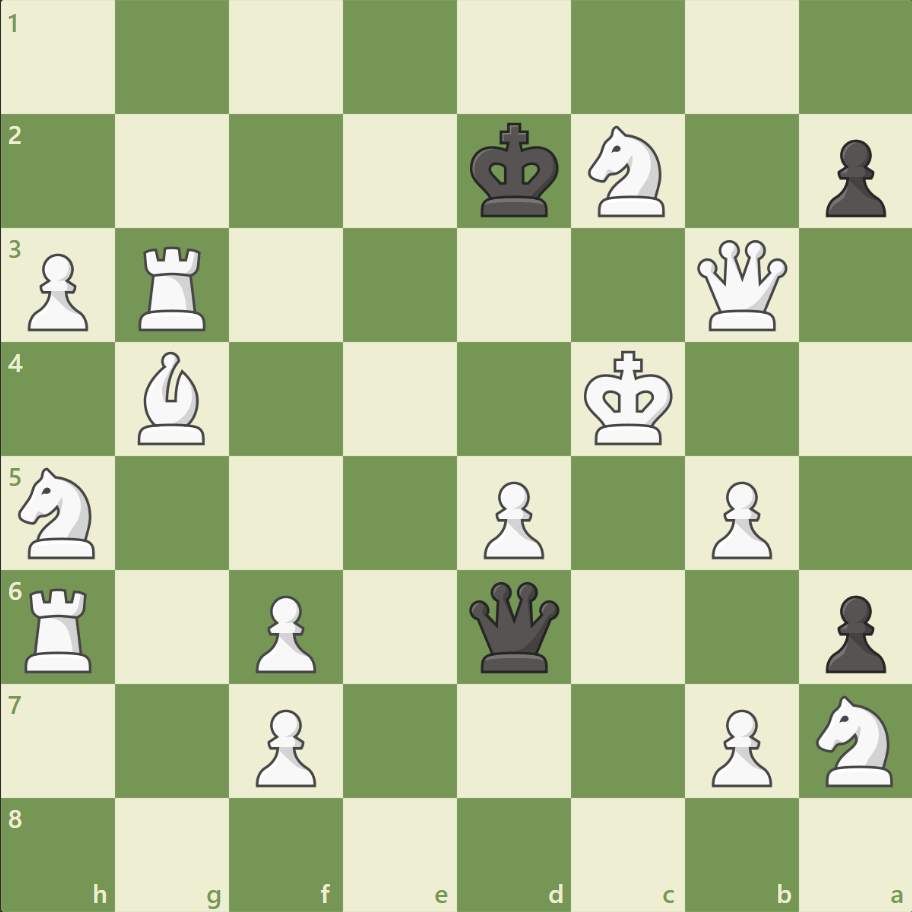B: (131, 347, 215, 449)
K: (579, 344, 679, 452)
N: (806, 688, 903, 791), (11, 461, 108, 564), (579, 121, 676, 223)
P: (701, 700, 776, 791), (247, 700, 322, 791), (247, 586, 322, 677), (701, 473, 776, 564), (474, 473, 549, 564), (20, 246, 95, 337)
Q: (691, 236, 790, 335)
R: (19, 579, 102, 676), (133, 239, 215, 336)
k: (465, 117, 565, 225)
p: (815, 586, 889, 677), (815, 132, 889, 223)
q: (464, 576, 563, 676)
